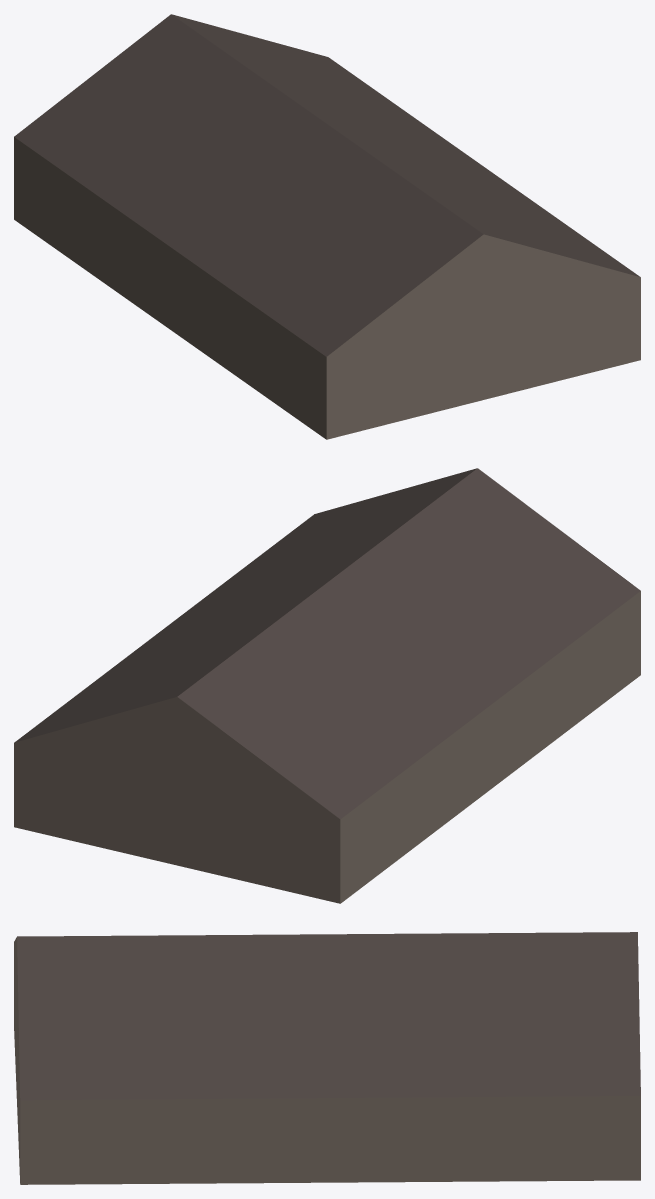
The picture shows the model from 3 angles, top to bottom: view 1: azimuth 30°, elevation 25°; view 2: azimuth 150°, elevation 25°; view 3: azimuth 270°, elevation 25°; orthographic projection. The views are drawn at different scales.
Visible parts, largest first — view 1: HP-w389701951; view 2: HP-w389701951; view 3: HP-w389701951.
Part boxes in pixels (x1=…): HP-w389701951: x1=14, y1=14, x2=640, y2=439; HP-w389701951: x1=14, y1=468, x2=640, y2=903; HP-w389701951: x1=14, y1=932, x2=640, y2=1184.
Size of the model in its own units: 12.37 by 6 by 20.15.
